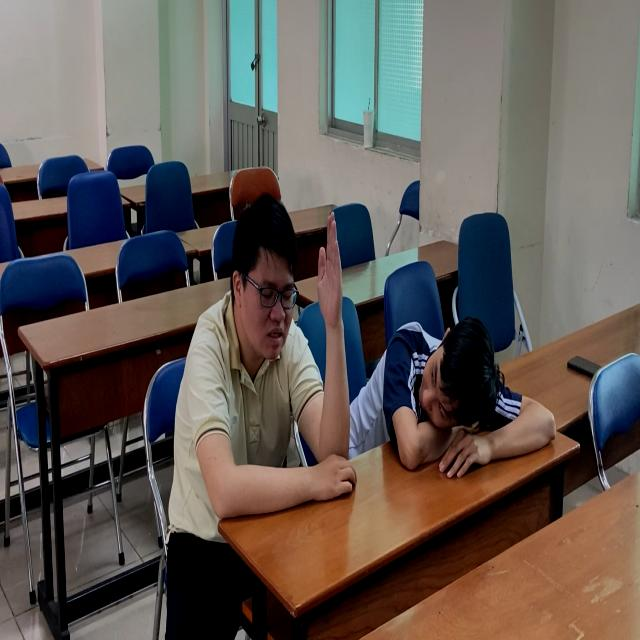raise_hand: (194, 189, 349, 529)
sleep: (363, 317, 559, 481)
